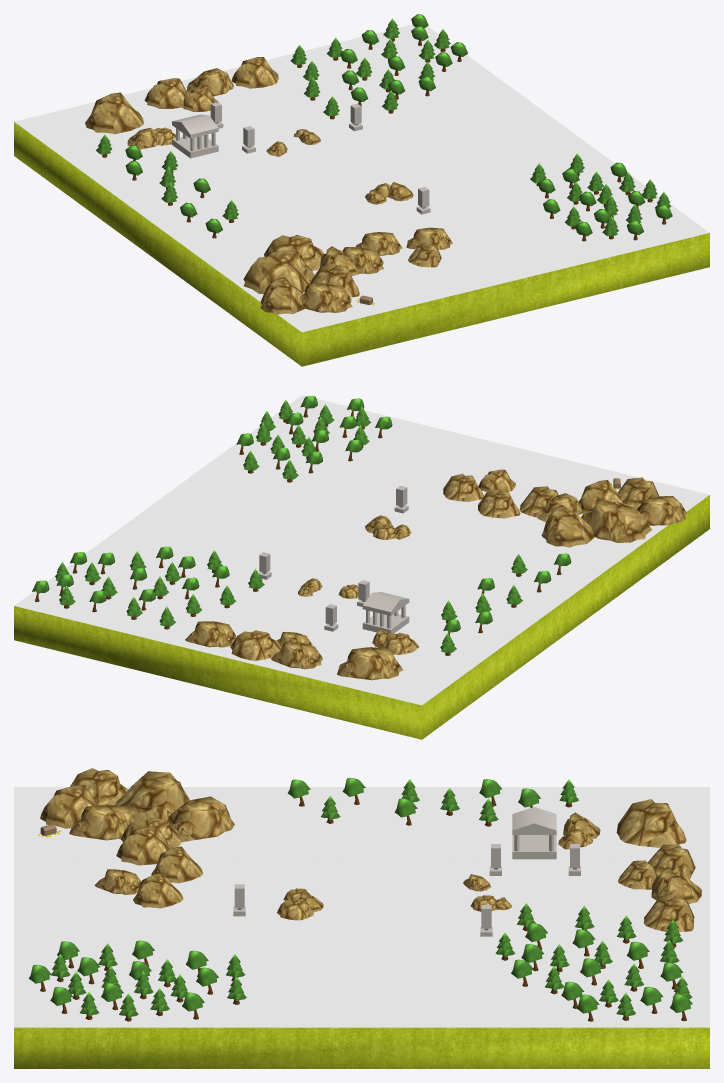
The model's file is Env-Prototype-II-level-01.fbx.
3 renders of one model, top to bottom at view 1: azimuth 30°, elevation 25°; view 2: azimuth 150°, elevation 25°; view 3: azimuth 270°, elevation 25°, orthographic. The views are drawn at different scales.
Parts seen in each view (by area): view 1: hexGrid1, groundPlane, Mountain_033, Mountain_034, pCube5, Mountain_035, Mountain_036, Mountain_032, Mountain_019, Mountain_027, Mountain_020, Mountain_028 (+6 smaller); view 2: hexGrid1, groundPlane, Mountain_033, Mountain_034, pCube5, Mountain_019, Mountain_028, Mountain_036, Mountain_027, Mountain_032, Mountain_016, Mountain_017 (+6 smaller); view 3: hexGrid1, groundPlane, Mountain_034, Mountain_033, pCube5, Mountain_019, Mountain_020, Mountain_035, Mountain_021, Mountain_032, Mountain_036, Mountain_017 (+9 smaller).
Part boxes in pixels (bbox=[...]): hexGrid1: bbox=[14, 24, 709, 332]; groundPlane: bbox=[14, 122, 709, 366]; Mountain_033: bbox=[243, 250, 314, 294]; Mountain_034: bbox=[85, 92, 143, 133]; pCube5: bbox=[172, 114, 218, 158]; Mountain_035: bbox=[300, 283, 352, 312]; Mountain_036: bbox=[260, 277, 304, 314]; Mountain_032: bbox=[231, 57, 278, 88]; Mountain_019: bbox=[264, 235, 324, 270]; Mountain_027: bbox=[144, 78, 189, 108]; Mountain_020: bbox=[311, 263, 359, 297]; Mountain_028: bbox=[186, 68, 233, 96]; hexGrid1: bbox=[14, 395, 709, 705]; groundPlane: bbox=[14, 495, 709, 739]; Mountain_033: bbox=[581, 499, 651, 542]; Mountain_034: bbox=[337, 647, 403, 680]; pCube5: bbox=[362, 592, 409, 633]; Mountain_019: bbox=[541, 505, 594, 547]; Mountain_028: bbox=[230, 630, 281, 660]; Mountain_036: bbox=[636, 496, 686, 525]; Mountain_027: bbox=[271, 641, 322, 669]; Mountain_032: bbox=[185, 621, 236, 647]; Mountain_016: bbox=[478, 489, 520, 518]; Mountain_017: bbox=[443, 473, 483, 501]; hexGrid1: bbox=[14, 787, 709, 1027]; groundPlane: bbox=[14, 1027, 709, 1068]; Mountain_034: bbox=[616, 799, 686, 847]; Mountain_033: bbox=[115, 771, 189, 820]; pCube5: bbox=[512, 807, 556, 859]; Mountain_019: bbox=[167, 796, 234, 841]; Mountain_020: bbox=[69, 804, 134, 840]; Mountain_035: bbox=[40, 785, 98, 828]; Mountain_021: bbox=[116, 826, 172, 865]; Mountain_032: bbox=[644, 894, 694, 931]; Mountain_036: bbox=[70, 768, 127, 805]; Mountain_017: bbox=[133, 873, 183, 908].
Bounding box in the file's own units: 55.93 × 8.24 × 67.29.
